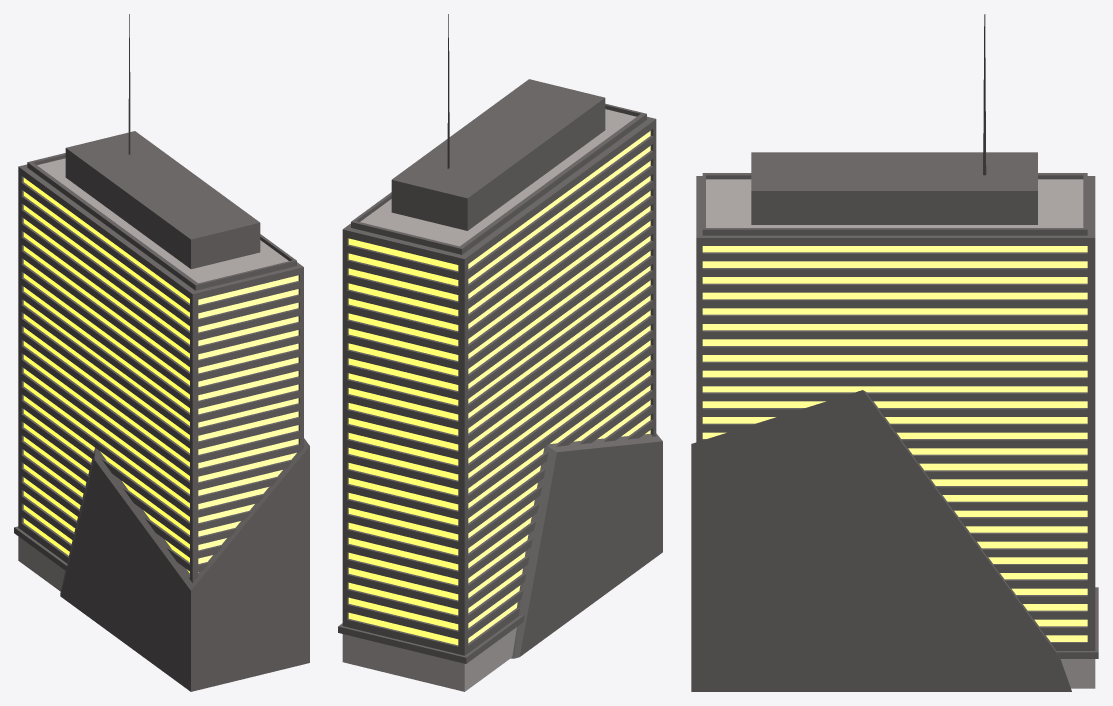
File: fractured_building4.glb
The picture shows the model from 3 angles, left to right: view 1: azimuth 30°, elevation 25°; view 2: azimuth 150°, elevation 25°; view 3: azimuth 270°, elevation 25°; orthographic projection. The views are drawn at different scales.
Visible parts, largest first — view 1: Cube_cell.001, Cube_cell.003, Cube_cell.006, Cube_cell.008; view 2: Cube_cell.001, Cube_cell.003, Cube_cell.006; view 3: Cube_cell.003, Cube_cell.001, Cube_cell.006.
Boxes of the visible parts, x1=… form: Cube_cell.001: x1=18, y1=131, x2=303, y2=423; Cube_cell.003: x1=14, y1=406, x2=309, y2=691; Cube_cell.006: x1=18, y1=296, x2=303, y2=546; Cube_cell.008: x1=63, y1=329, x2=88, y2=398; Cube_cell.001: x1=342, y1=79, x2=656, y2=401; Cube_cell.003: x1=338, y1=381, x2=662, y2=691; Cube_cell.006: x1=342, y1=261, x2=656, y2=535; Cube_cell.003: x1=691, y1=390, x2=1098, y2=691; Cube_cell.001: x1=696, y1=152, x2=1095, y2=386; Cube_cell.006: x1=696, y1=378, x2=1095, y2=526.
Bounding box in the file's own units: 5.25 × 23.93 × 13.61.
